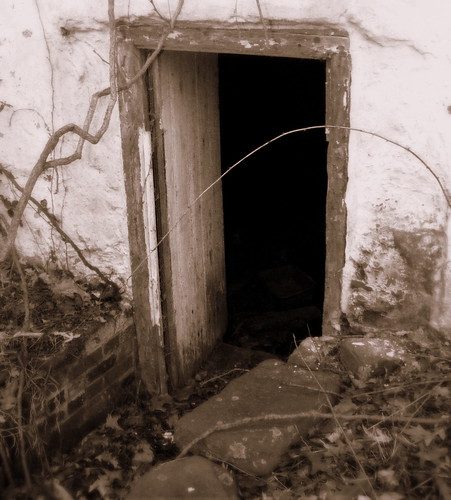door: (134, 48, 306, 380)
